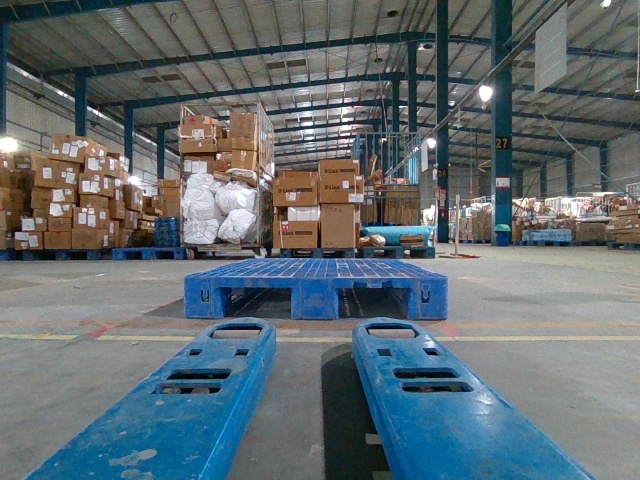block: (291, 275, 340, 322), (407, 272, 448, 324), (180, 276, 226, 318)
front: (185, 277, 447, 318)
hole pallet: (329, 284, 413, 320), (217, 284, 295, 318)
